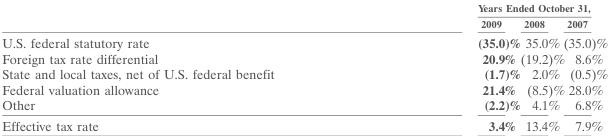table: (1, 1, 607, 133)
table column: (1, 1, 375, 133), (375, 1, 519, 133), (519, 1, 563, 133), (563, 1, 607, 133)
table column header: (1, 1, 607, 32)
table row: (1, 32, 607, 50), (1, 97, 607, 115), (1, 115, 607, 133), (1, 15, 607, 32), (1, 50, 607, 66), (1, 81, 607, 97), (1, 66, 607, 81), (1, 1, 607, 15)
table spanning cell: (375, 1, 607, 15)
